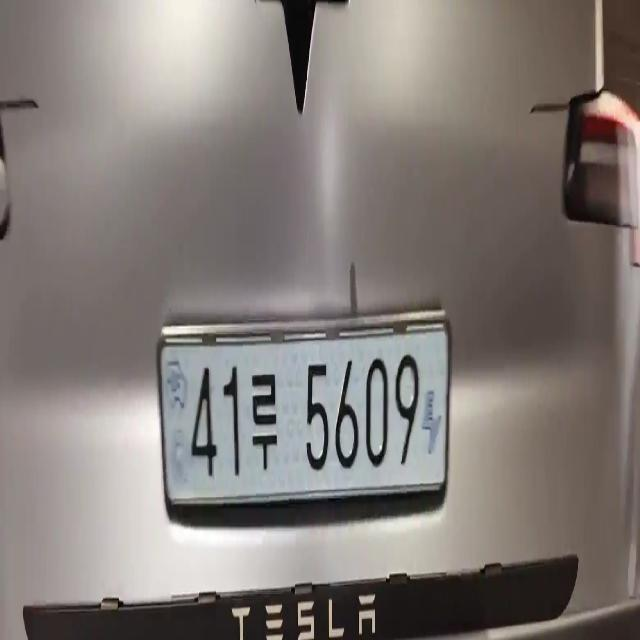car: (159, 330, 453, 514)
carev: (160, 332, 191, 511), (421, 349, 448, 491)
